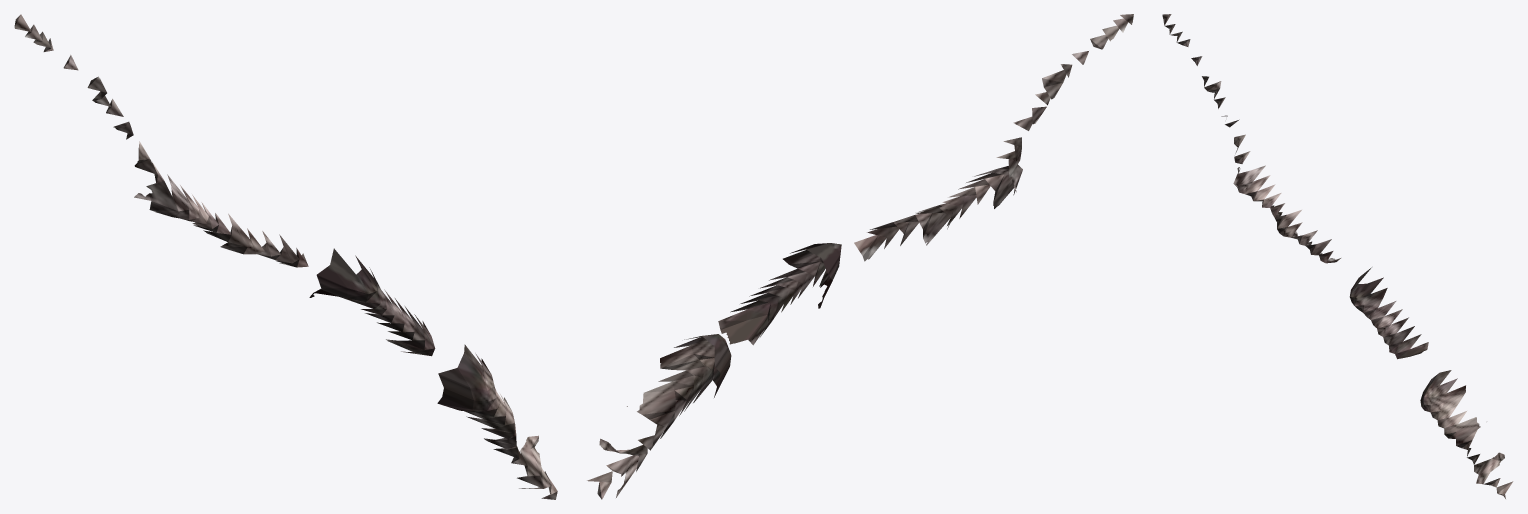
Rendered from prop_branch.obj.
3 views of the same model, side by side, from view 1: azimuth 30°, elevation 25°; view 2: azimuth 150°, elevation 25°; view 3: azimuth 330°, elevation 25° (orthographic). The views are drawn at different scales.
Visible parts, largest first — view 1: prop_branch; view 2: prop_branch; view 3: prop_branch.
Boxes of the visible parts, x1=… form: prop_branch: x1=14, y1=14, x2=557, y2=499; prop_branch: x1=587, y1=14, x2=1133, y2=499; prop_branch: x1=1162, y1=14, x2=1513, y2=498.
Size of the model in its own units: 1.13 by 1.23 by 0.1666.
1 material, 1 textured.
